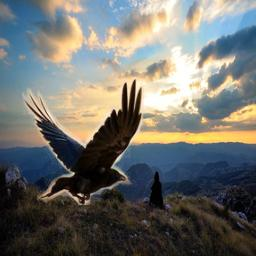Crow: (22, 77, 144, 205)
